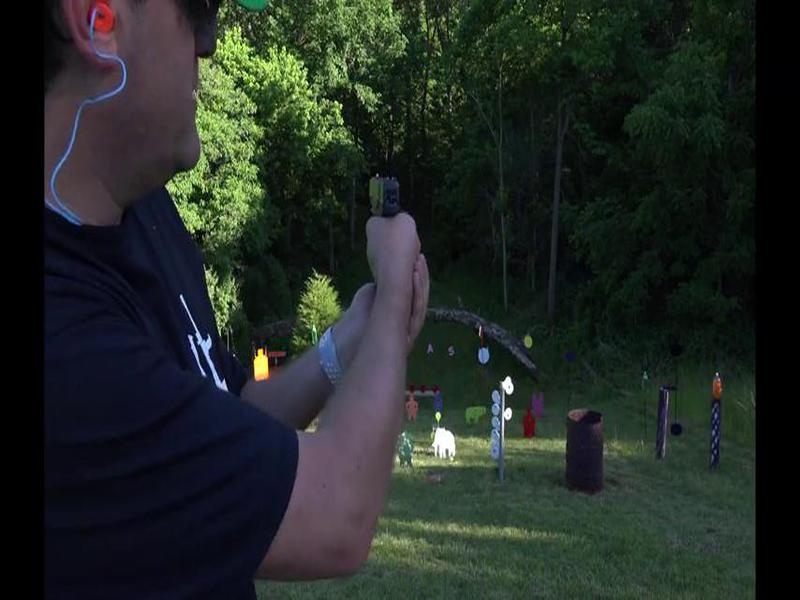Pistola: (344, 164, 423, 254)
